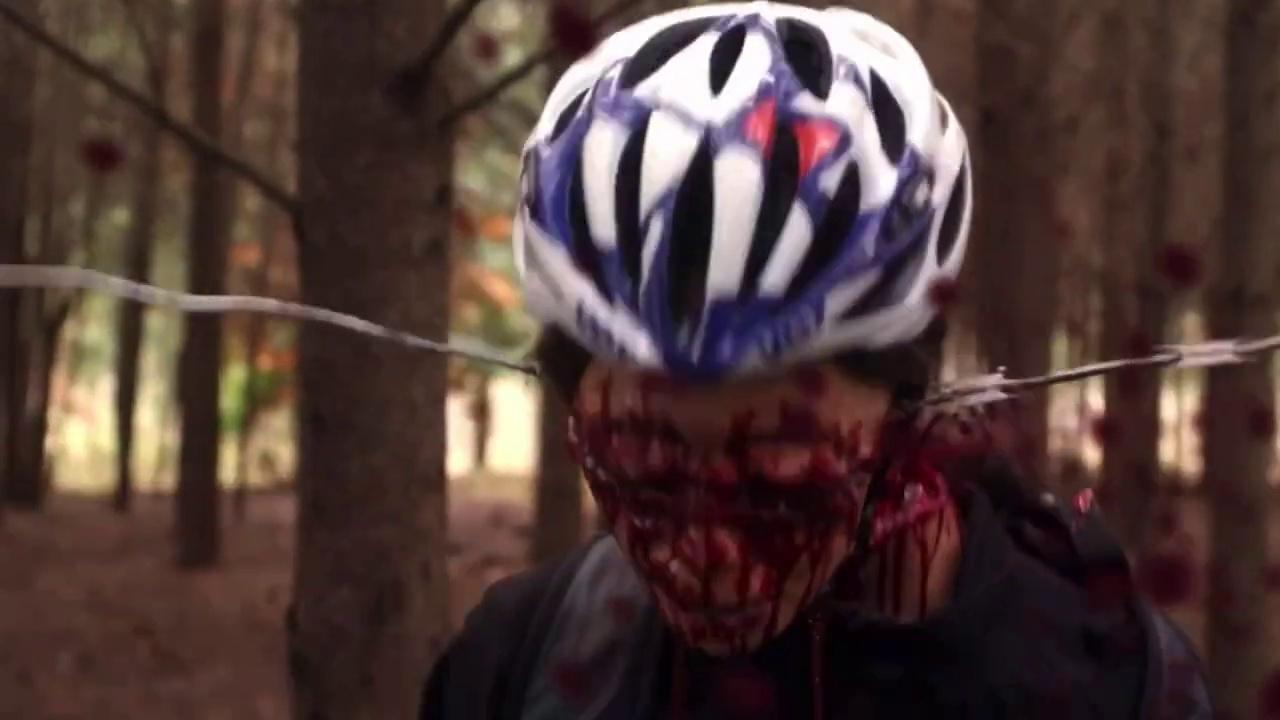Fire: (485, 319, 1138, 718), (1145, 340, 1280, 716)
